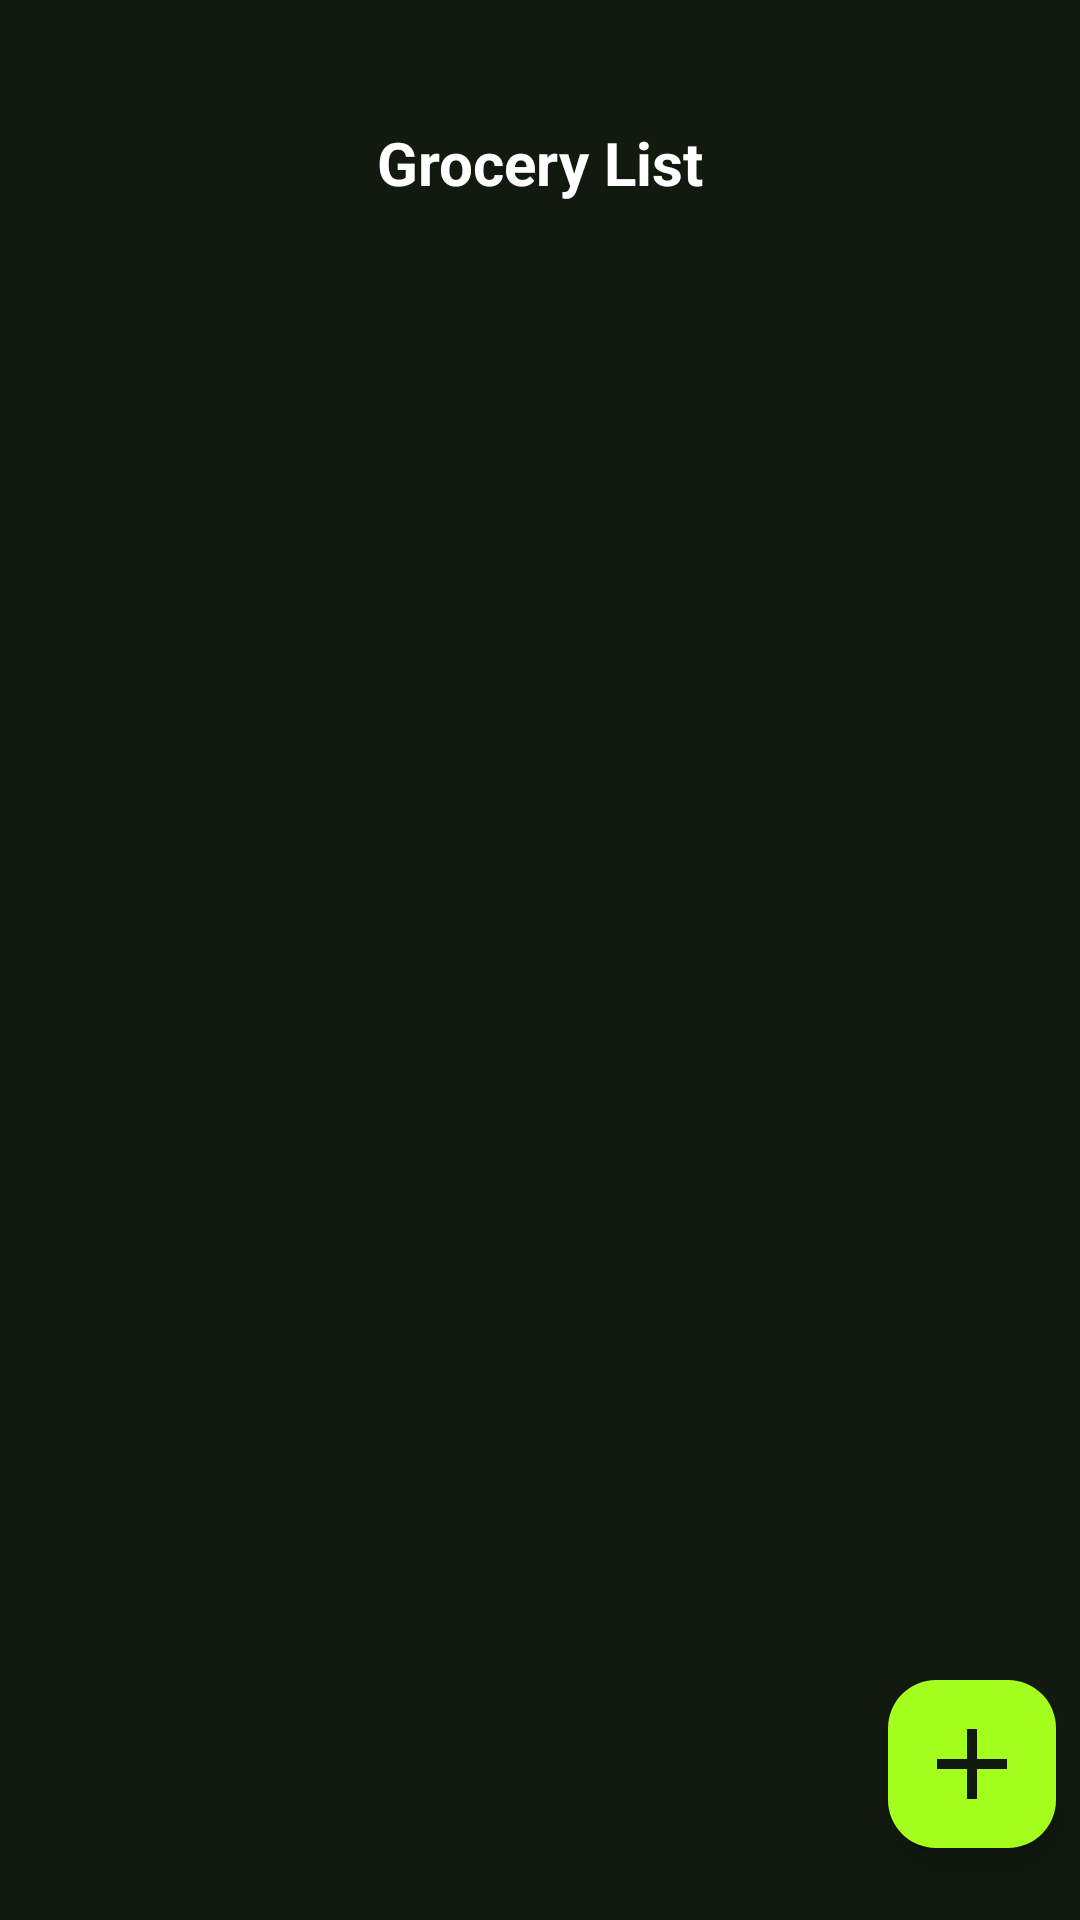

Screen size 1080px×1920px. Icon name, then its box in pixels as (x1, y1, x2, y2):
add: (888, 1680, 1056, 1848)
